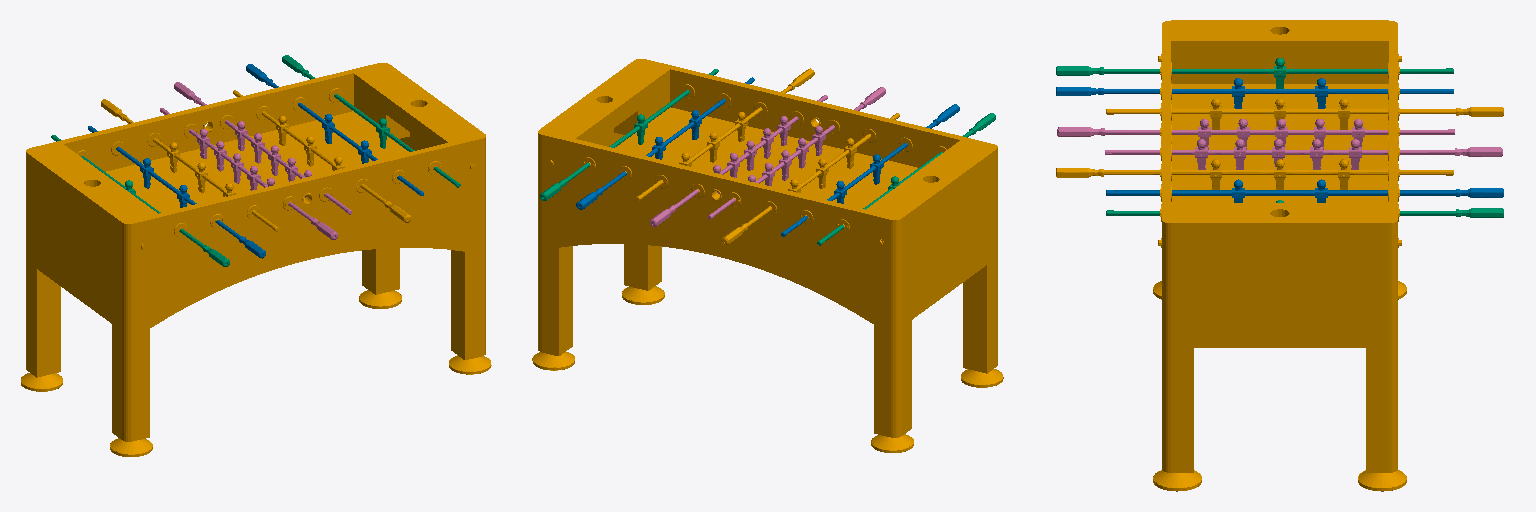
The robot description file, URDF, robot "foosball_table":
<?xml version="1.0"?>
<robot name="foosball_table">
  <link name="table">
    <visual>
      <origin xyz="0.0 0.0 0.0"/>
      <geometry>
        <mesh filename="meshes/table.obj" scale="0.001 0.001 0.001"/>
      </geometry>
    </visual>
    <collision>
      <origin xyz="0.0 0.0 0.0"/>
      <geometry>
        <mesh filename="meshes/table.obj" scale="0.001 0.001 0.001"/>
      </geometry>
    </collision>
  </link>


  <link name="empty_goalie_team_1"/>
  <link name="goalie_team_1">
    <visual>
      <origin xyz="0.0 0.0 0.0"/>
      <geometry>
        <mesh filename="meshes/1-bar-centered_team_1.obj" scale="1 1 1"/>
      </geometry>
    </visual>
    <collision>
      <origin xyz="0.0 0.0 0.0"/>
      <geometry>
        <mesh filename="meshes/1-bar-centered.obj_team_1" scale="1 1 1"/>
      </geometry>
    </collision>
    <inertial>
      <mass value="0.7638"/>
      <inertia ixx="0.099" ixy="-0.000001283" ixz="0.000000003289" iyy="0.0" iyz="0.00004499" izz="0.099"/>
    </inertial>
  </link>

  <link name="empty_2_bar_team_1"/>
  <link name="2_bar_team_1">
    <visual>
      <origin xyz="0.0 0.0 0.0"/>
      <geometry>
        <mesh filename="meshes/2-bar-centered_team_1.obj" scale="1 1 1"/>
      </geometry>
    </visual>
    <collision>
      <origin xyz="0.0 0.0 0.0"/>
      <geometry>
        <mesh filename="meshes/2-bar-centered_team_1.obj" scale="1 1 1"/>
      </geometry>
    </collision>
    <inertial>
      <mass value="0.7638"/>
      <inertia ixx="0.099" ixy="-0.000001283" ixz="0.000000003289" iyy="0.0" iyz="0.00004499" izz="0.099"/>
    </inertial>
  </link>

  <link name="empty_5_bar_team_1"/>
  <link name="5_bar_team_1">
    <visual>
      <origin xyz="0.0 0.0 0.0"/>
      <geometry>
        <mesh filename="meshes/5-bar-centered_team_1.obj" scale="1 1 1"/>
      </geometry>
    </visual>
    <collision>
      <origin xyz="0.0 0.0 0.0"/>
      <geometry>
        <mesh filename="meshes/5-bar-centered_team_1.obj" scale="1 1 1"/>
      </geometry>
    </collision>
    <inertial>
      <mass value="0.7638"/>
      <inertia ixx="0.099" ixy="-0.000001283" ixz="0.000000003289" iyy="0.0" iyz="0.00004499" izz="0.099"/>
    </inertial>
  </link>

  <link name="empty_3_bar_team_1"/>
  <link name="3_bar_team_1">
    <visual>
      <origin xyz="0.0 0.0 0.0"/>
      <geometry>
        <mesh filename="meshes/3-bar-centered_team_1.obj" scale="1 1 1"/>
      </geometry>
    </visual>
    <collision>
      <origin xyz="0.0 0.0 0.0"/>
      <geometry>
        <mesh filename="meshes/3-bar-centered_team_1.obj" scale="1 1 1"/>
      </geometry>
    </collision>
    <inertial>
      <mass value="0.7638"/>
      <inertia ixx="0.099" ixy="-0.000001283" ixz="0.000000003289" iyy="0.0" iyz="0.00004499" izz="0.099"/>
    </inertial>
  </link>




  <link name="empty_goalie_team_2"/>
  <link name="goalie_team_2">
    <visual>
      <origin xyz="0.0 0.0 0.0"/>
      <geometry>
        <mesh filename="meshes/1-bar-centered_team_2.obj" scale="1 1 1"/>
      </geometry>
    </visual>
    <collision>
      <origin xyz="0.0 0.0 0.0"/>
      <geometry>
        <mesh filename="meshes/1-bar-centered_team_2.obj" scale="1 1 1"/>
      </geometry>
    </collision>
    <inertial>
      <mass value="0.7638"/>
      <inertia ixx="0.099" ixy="-0.000001283" ixz="0.000000003289" iyy="0.0" iyz="0.00004499" izz="0.099"/>
    </inertial>
  </link>

  <link name="empty_2_bar_team_2"/>
  <link name="2_bar_team_2">
    <visual>
      <origin xyz="0.0 0.0 0.0"/>
      <geometry>
        <mesh filename="meshes/2-bar-centered_team_2.obj" scale="1 1 1"/>
      </geometry>
    </visual>
    <collision>
      <origin xyz="0.0 0.0 0.0"/>
      <geometry>
        <mesh filename="meshes/2-bar-centered_team_2.obj" scale="1 1 1"/>
      </geometry>
    </collision>
    <inertial>
      <mass value="0.7638"/>
      <inertia ixx="0.099" ixy="-0.000001283" ixz="0.000000003289" iyy="0.0" iyz="0.00004499" izz="0.099"/>
    </inertial>
  </link>

  <link name="empty_5_bar_team_2"/>
  <link name="5_bar_team_2">
    <visual>
      <origin xyz="0.0 0.0 0.0"/>
      <geometry>
        <mesh filename="meshes/5-bar-centered_team_2.obj" scale="1 1 1"/>
      </geometry>
    </visual>
    <collision>
      <origin xyz="0.0 0.0 0.0"/>
      <geometry>
        <mesh filename="meshes/5-bar-centered_team_2.obj" scale="1 1 1"/>
      </geometry>
    </collision>
    <inertial>
      <mass value="0.7638"/>
      <inertia ixx="0.099" ixy="-0.000001283" ixz="0.000000003289" iyy="0.0" iyz="0.00004499" izz="0.099"/>
    </inertial>
  </link>

  <link name="empty_3_bar_team_2"/>
  <link name="3_bar_team_2">
    <visual>
      <origin xyz="0.0 0.0 0.0"/>
      <geometry>
        <mesh filename="meshes/3-bar-centered_team_2.obj" scale="1 1 1"/>
      </geometry>
    </visual>
    <collision>
      <origin xyz="0.0 0.0 0.0"/>
      <geometry>
        <mesh filename="meshes/3-bar-centered_team_2.obj" scale="1 1 1"/>
      </geometry>
    </collision>
    <inertial>
      <mass value="0.7638"/>
      <inertia ixx="0.099" ixy="-0.000001283" ixz="0.000000003289" iyy="0.0" iyz="0.00004499" izz="0.099"/>
    </inertial>
  </link>

<joint name="goalie_team_1_prismatic_joint" type="prismatic">
  <parent link="table"/>
  <child link="empty_goalie_team_1"/>
  <limit effort="9999" velocity="9999" lower="-0.147" upper="0.147"/>
  <axis xyz="0 1 0"/>
  <origin xyz="0.525 0.0 0.360054"/>
</joint>
<joint name="goalie_team_1_revolute_joint" type="revolute">
  <parent link="empty_goalie_team_1"/>
  <child link="goalie_team_1"/>
  <axis xyz="0 1 0"/>
</joint>

<joint name="2_bar_team_1_prismatic_joint" type="prismatic">
  <parent link="table"/>
  <child link="empty_2_bar_team_1"/>
  <limit effort="9999" velocity="9999" lower="-0.187" upper="0.187"/>
  <axis xyz="0 1 0"/>
  <origin xyz="0.375 0.0 0.360054"/>
</joint>
<joint name="2_bar_team_1_revolute_joint" type="revolute">
  <parent link="empty_2_bar_team_1"/>
  <child link="2_bar_team_1"/>
  <axis xyz="0 1 0"/>
</joint>

<joint name="5_bar_team_1_prismatic_joint" type="prismatic">
  <parent link="table"/>
  <child link="empty_5_bar_team_1"/>
  <limit effort="9999" velocity="9999" lower="-0.077" upper="0.077"/>
  <axis xyz="0 1 0"/>
  <origin xyz="0.075 0.031126 0.360054"/>
</joint>
<joint name="5_bar_team_1_revolute_joint" type="revolute">
  <parent link="empty_5_bar_team_1"/>
  <child link="5_bar_team_1"/>
  <axis xyz="0 1 0"/>
</joint>

<joint name="3_bar_team_1_prismatic_joint" type="prismatic">
  <parent link="table"/>
  <child link="empty_3_bar_team_1"/>
  <limit effort="9999" velocity="9999" lower="-0.117" upper="0.117"/>
  <axis xyz="0 1 0"/>
  <origin xyz="-0.225 0.0 0.360054"/>
</joint>
<joint name="3_bar_team_1_revolute_joint" type="revolute">
  <parent link="empty_3_bar_team_1"/>
  <child link="3_bar_team_1"/>
  <axis xyz="0 1 0"/>
</joint>






<joint name="goalie_team_2_prismatic_joint" type="prismatic">
  <parent link="table"/>
  <child link="empty_goalie_team_2"/>
  <limit effort="9999" velocity="9999" lower="-0.147" upper="0.147"/>
  <axis xyz="0 1 0"/>
  <origin xyz="-0.525 0.0 0.360054" rpy="0 0 3.1415"/>
</joint>
<joint name="goalie_team_2_revolute_joint" type="revolute">
  <parent link="empty_goalie_team_2"/>
  <child link="goalie_team_2"/>
  <axis xyz="0 1 0"/>
</joint>

<joint name="2_bar_team_2_prismatic_joint" type="prismatic">
  <parent link="table"/>
  <child link="empty_2_bar_team_2"/>
  <limit effort="9999" velocity="9999" lower="-0.187" upper="0.187"/>
  <axis xyz="0 1 0"/>
  <origin xyz="-0.375 0.0 0.360054" rpy="0 0 3.1415"/>
</joint>
<joint name="2_bar_team_2_revolute_joint" type="revolute">
  <parent link="empty_2_bar_team_2"/>
  <child link="2_bar_team_2"/>
  <axis xyz="0 1 0"/>
</joint>

<joint name="5_bar_team_2_prismatic_joint" type="prismatic">
  <parent link="table"/>
  <child link="empty_5_bar_team_2"/>
  <limit effort="9999" velocity="9999" lower="-0.077" upper="0.077"/>
  <axis xyz="0 1 0"/>
  <origin xyz="-0.075 -0.031126 0.360054" rpy="0 0 3.1415"/>
</joint>
<joint name="5_bar_team_2_revolute_joint" type="revolute">
  <parent link="empty_5_bar_team_2"/>
  <child link="5_bar_team_2"/>
  <axis xyz="0 1 0" />
</joint>

<joint name="3_bar_team_2_prismatic_joint" type="prismatic">
  <parent link="table"/>
  <child link="empty_3_bar_team_2"/>
  <limit effort="9999" velocity="9999" lower="-0.117" upper="0.117"/>
  <axis xyz="0 1 0"/>
  <origin xyz="0.225 0.0 0.360054" rpy="0 0 3.1415"/>
</joint>
<joint name="3_bar_team_2_revolute_joint" type="revolute">
  <parent link="empty_3_bar_team_2"/>
  <child link="3_bar_team_2"/>
  <axis xyz="0 1 0"/>
</joint>


</robot>

--- What the picture shows (computed from the rendered views, not written in the file) ---
Views: 3 orthographic renders of the robot side by side, from view 1: azimuth 30°, elevation 25°; view 2: azimuth 150°, elevation 25°; view 3: azimuth 270°, elevation 25°.
Robot: foosball_table — 17 links, 16 joints (8 revolute, 8 prismatic); root link table; default pose: every joint at zero.
Visible links, largest first — view 1: table, 5_bar_team_2, 5_bar_team_1, 3_bar_team_2, 3_bar_team_1, 2_bar_team_1, 2_bar_team_2, goalie_team_1, goalie_team_2; view 2: table, 5_bar_team_1, 5_bar_team_2, 3_bar_team_1, 3_bar_team_2, 2_bar_team_1, 2_bar_team_2, goalie_team_1, goalie_team_2; view 3: table, 5_bar_team_1, 5_bar_team_2, 3_bar_team_2, 2_bar_team_1, 3_bar_team_1, 2_bar_team_2, goalie_team_2, goalie_team_1.
Link boxes in pixels (x1,y1,x2,y2): table: [21, 63, 491, 456]; 5_bar_team_2: [160, 108, 337, 239]; 5_bar_team_1: [174, 82, 351, 214]; 3_bar_team_2: [233, 90, 410, 222]; 3_bar_team_1: [101, 99, 278, 231]; 2_bar_team_1: [246, 64, 423, 195]; 2_bar_team_2: [88, 126, 265, 258]; goalie_team_1: [282, 55, 460, 187]; goalie_team_2: [51, 135, 229, 266]; table: [532, 59, 1003, 452]; 5_bar_team_1: [650, 95, 827, 227]; 5_bar_team_2: [708, 87, 885, 219]; 3_bar_team_1: [721, 113, 899, 245]; 3_bar_team_2: [636, 68, 814, 200]; 2_bar_team_1: [576, 77, 754, 209]; 2_bar_team_2: [781, 104, 959, 236]; goalie_team_1: [540, 69, 718, 200]; goalie_team_2: [817, 113, 995, 245]; table: [1153, 20, 1406, 491]; 5_bar_team_1: [1105, 139, 1502, 169]; 5_bar_team_2: [1057, 119, 1454, 149]; 3_bar_team_2: [1056, 159, 1453, 189]; 2_bar_team_1: [1106, 179, 1503, 202]; 3_bar_team_1: [1106, 98, 1503, 129]; 2_bar_team_2: [1056, 78, 1453, 108]; goalie_team_2: [1056, 58, 1453, 88]; goalie_team_1: [1106, 200, 1503, 217].
Size in the robot's own frame: 1.55 by 1.4 by 0.912 metres.
Meshes: 9 distinct files referenced, 9 mesh visuals loaded (9 OBJ).